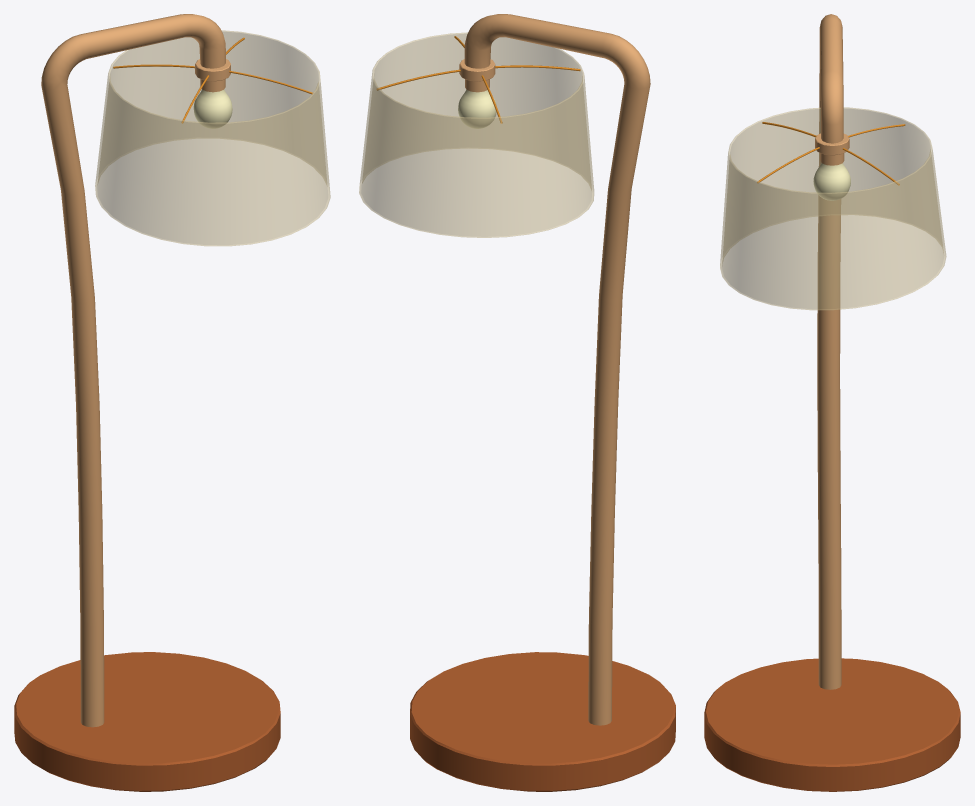
The model's file is Lamp_floor.glb.
The picture shows the model from 3 angles, left to right: view 1: azimuth 30°, elevation 25°; view 2: azimuth 150°, elevation 25°; view 3: azimuth 270°, elevation 25°; orthographic projection. The views are drawn at different scales.
Visible parts, largest first — view 1: Lamp_floor1; view 2: Lamp_floor1; view 3: Lamp_floor1.
Boxes of the visible parts, <box> form: Lamp_floor1: <box>14,14,330,791</box>; Lamp_floor1: <box>359,14,675,791</box>; Lamp_floor1: <box>704,14,960,791</box>.
Size of the model in its own units: 0.7474 by 1.81 by 0.609.
4 materials, 1 textured.
